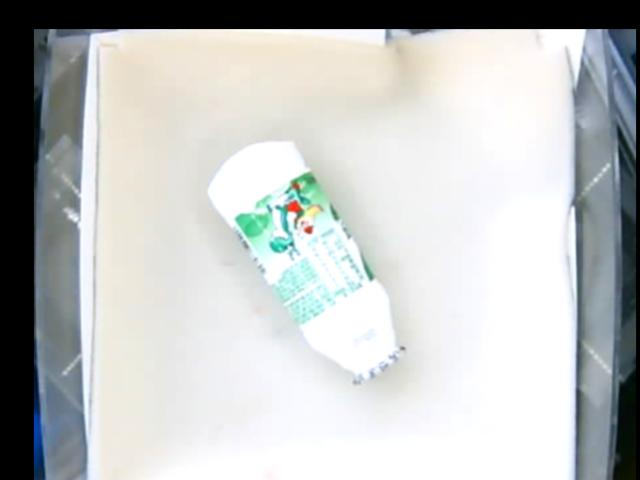Bottle: (205, 136, 399, 385)
